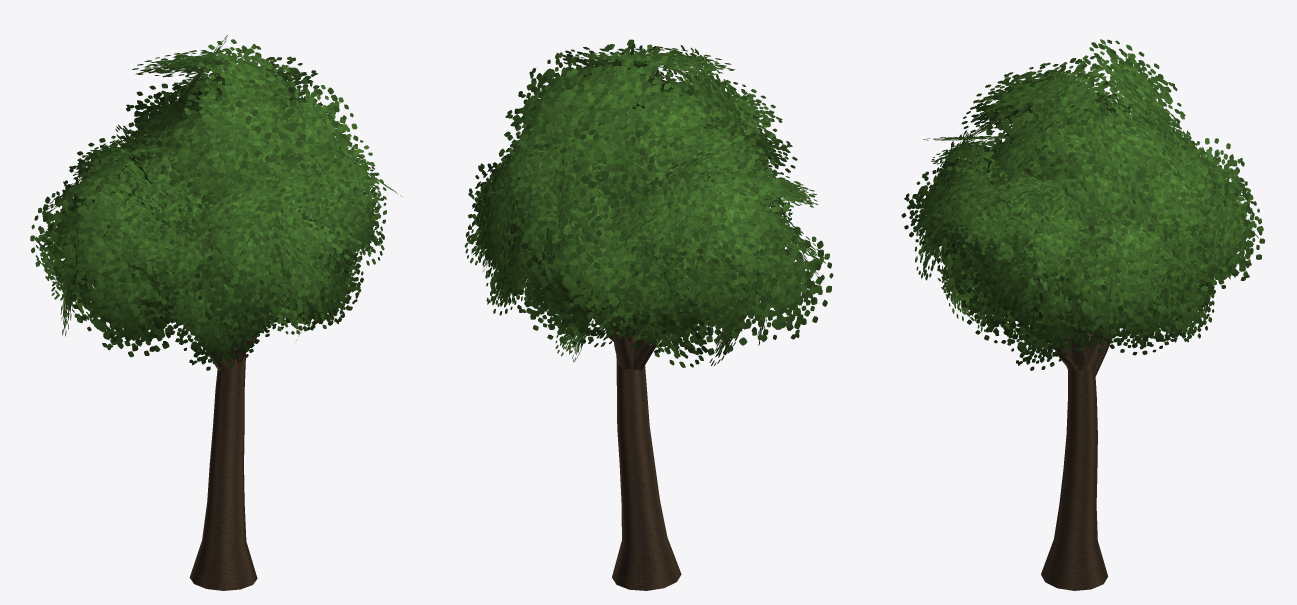
Rendered from Tree.obj.
3 renders of one model, left to right at view 1: azimuth 30°, elevation 25°; view 2: azimuth 150°, elevation 25°; view 3: azimuth 270°, elevation 25°, orthographic. The views are drawn at different scales.
Visible parts, largest first — view 1: Tree; view 2: Tree; view 3: Tree.
Part boxes in pixels (bbox=[...]): Tree: bbox=[30, 35, 401, 590]; Tree: bbox=[464, 39, 833, 590]; Tree: bbox=[901, 39, 1264, 590].
Bounding box in the file's own units: 0.7341 × 1 × 0.6715.
1 material, 1 textured.
